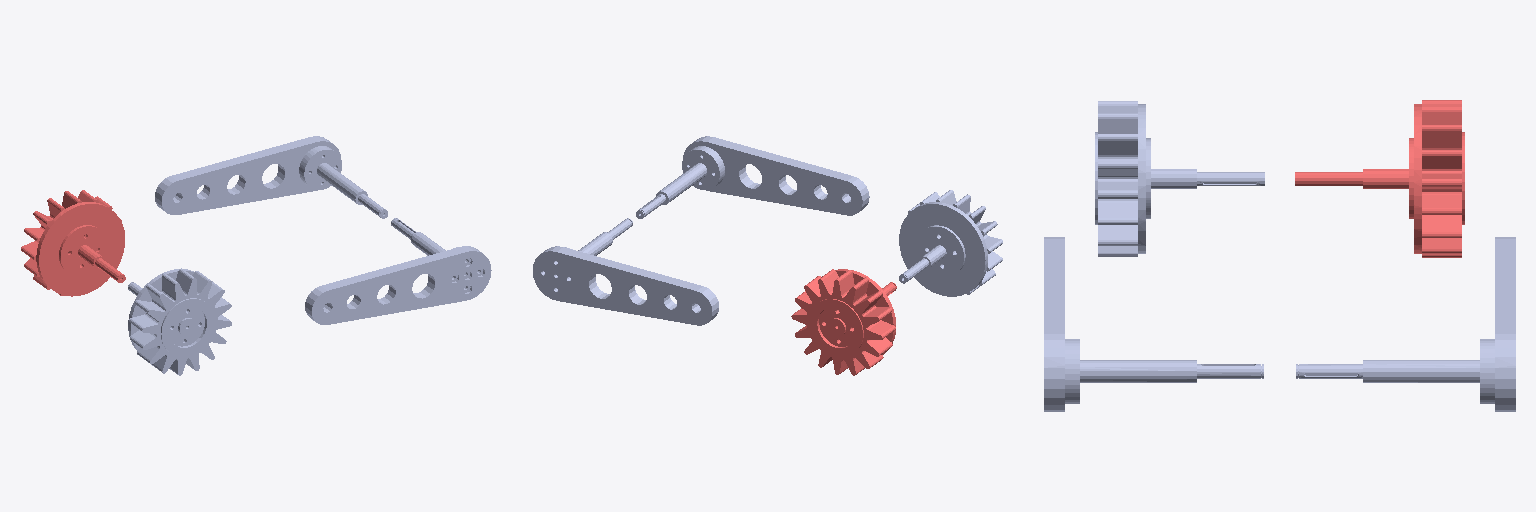
URDF robot description (NIXITO 2026.SLDASM):
<?xml version="1.0" encoding="utf-8"?>
<!-- This URDF was automatically created by SolidWorks to URDF Exporter! Originally created by Stephen Brawner (brawner@gmail.com) 
     Commit Version: 1.6.1-13-g25da24a-dirty  Build Version: 1.6.9639.2506
     For more information, please see http://wiki.ros.org/sw_urdf_exporter -->
<robot
  name="NIXITO 2026.SLDASM">
  <link
    name="base_link">
    <inertial>
      <origin
        xyz="-0.184395945779519 0.431946712720634 0.149004118152158"
        rpy="0 0 0" />
      <mass
        value="24.0361753537654" />
      <inertia
        ixx="0.0692970504509231"
        ixy="-2.1597549524525E-05"
        ixz="-0.00108618565053537"
        iyy="0.274580046029045"
        iyz="5.23944662916574E-05"
        izz="0.277217039635956" />
    </inertial>
    <visual>
      <origin
        xyz="0 0 0"
        rpy="0 0 0" />
      <geometry>
        <mesh
          filename="package://NIXITO 2026.SLDASM/meshes/base_link.STL" />
      </geometry>
      <material
        name="">
        <color
          rgba="0.792156862745098 0.819607843137255 0.933333333333333 1" />
      </material>
    </visual>
    <collision>
      <origin
        xyz="0 0 0"
        rpy="0 0 0" />
      <geometry>
        <mesh
          filename="package://NIXITO 2026.SLDASM/meshes/base_link.STL" />
      </geometry>
    </collision>
  </link>
  <link
    name="flipper_R_link">
    <inertial>
      <origin
        xyz="0.10014 1.019E-05 -0.004882"
        rpy="0 0 0" />
      <mass
        value="0.87584" />
      <inertia
        ixx="0.0009623"
        ixy="-1.7655E-09"
        ixz="-7.6272E-06"
        iyy="0.0085169"
        iyz="8.609E-07"
        izz="0.0085709" />
    </inertial>
    <visual>
      <origin
        xyz="0 0 0"
        rpy="0 0 0" />
      <geometry>
        <mesh
          filename="package://NIXITO 2026.SLDASM/meshes/flipper_R_link.STL" />
      </geometry>
      <material
        name="">
        <color
          rgba="0.79216 0.81961 0.93333 1" />
      </material>
    </visual>
    <collision>
      <origin
        xyz="0 0 0"
        rpy="0 0 0" />
      <geometry>
        <mesh
          filename="package://NIXITO 2026.SLDASM/meshes/flipper_R_link.STL" />
      </geometry>
    </collision>
  </link>
  <joint
    name="flipper_R_joint"
    type="continuous">
    <origin
      xyz="0.11467 0.16639 0.10463"
      rpy="-1.5708 -0.015767 3.1416" />
    <parent
      link="base_link" />
    <child
      link="flipper_R_link" />
    <axis
      xyz="0 0 1" />
    <limit
      effort="100"
      velocity="100" />
    <dynamics
      friction="0.1" />
  </joint>
  <link
    name="flipper_L_link">
    <inertial>
      <origin
        xyz="-0.10014 -0.0015792 0.0047759"
        rpy="0 0 0" />
      <mass
        value="0.87584" />
      <inertia
        ixx="0.0009642"
        ixy="-0.00011909"
        ixz="-8.4202E-06"
        iyy="0.008515"
        iyz="-1.4175E-07"
        izz="0.0085709" />
    </inertial>
    <visual>
      <origin
        xyz="0 0 0"
        rpy="0 0 0" />
      <geometry>
        <mesh
          filename="package://NIXITO 2026.SLDASM/meshes/flipper_L_link.STL" />
      </geometry>
      <material
        name="">
        <color
          rgba="0.79216 0.81961 0.93333 1" />
      </material>
    </visual>
    <collision>
      <origin
        xyz="0 0 0"
        rpy="0 0 0" />
      <geometry>
        <mesh
          filename="package://NIXITO 2026.SLDASM/meshes/flipper_L_link.STL" />
      </geometry>
    </collision>
  </link>
  <joint
    name="flipper_L_joint"
    type="continuous">
    <origin
      xyz="0.11467 0.68797 0.10463"
      rpy="-1.5708 0 0" />
    <parent
      link="base_link" />
    <child
      link="flipper_L_link" />
    <axis
      xyz="0 0 1" />
    <limit
      effort="100"
      velocity="100" />
    <dynamics
      friction="0.1" />
  </joint>
  <link
    name="dir_R_link">
    <inertial>
      <origin
        xyz="-5.8013878025398E-06 9.29245505210119E-07 0.0305867376338103"
        rpy="0 0 0" />
      <mass
        value="1.3754826889591" />
      <inertia
        ixx="0.00316961596584357"
        ixy="-9.14070031604185E-09"
        ixz="-7.32360840596535E-07"
        iyy="0.00316956036222584"
        iyz="1.17306916419896E-07"
        izz="0.00491633292421438" />
    </inertial>
    <visual>
      <origin
        xyz="0 0 0"
        rpy="0 0 0" />
      <geometry>
        <mesh
          filename="package://NIXITO 2026.SLDASM/meshes/dir_R_link.STL" />
      </geometry>
      <material
        name="">
        <color
          rgba="0.792156862745098 0.819607843137255 0.933333333333333 1" />
      </material>
    </visual>
    <collision>
      <origin
        xyz="0 0 0"
        rpy="0 0 0" />
      <geometry>
        <mesh
          filename="package://NIXITO 2026.SLDASM/meshes/dir_R_link.STL" />
      </geometry>
    </collision>
  </link>
  <joint
    name="dir_R_joint"
    type="continuous">
    <origin
      xyz="-0.44833 0.27294 0.10463"
      rpy="1.5708 0.12355 0" />
    <parent
      link="base_link" />
    <child
      link="dir_R_link" />
    <axis
      xyz="0 0 1" />
    <limit
      effort="100"
      velocity="100" />
    <dynamics
      friction="0.1" />
  </joint>
  <link
    name="dir_L_link">
    <inertial>
      <origin
        xyz="4.8611E-06 -3.2999E-06 0.024587"
        rpy="0 0 0" />
      <mass
        value="1.3755" />
      <inertia
        ixx="0.0031696"
        ixy="-2.7199E-08"
        ixz="6.1366E-07"
        iyy="0.0031696"
        iyz="-4.1657E-07"
        izz="0.0049163" />
    </inertial>
    <visual>
      <origin
        xyz="0 0 0"
        rpy="0 0 0" />
      <geometry>
        <mesh
          filename="package://NIXITO 2026.SLDASM/meshes/dir_L_link.STL" />
      </geometry>
      <material
        name="">
        <color
          rgba="1 0.50196 0.50196 1" />
      </material>
    </visual>
    <collision>
      <origin
        xyz="0 0 0"
        rpy="0 0 0" />
      <geometry>
        <mesh
          filename="package://NIXITO 2026.SLDASM/meshes/dir_L_link.STL" />
      </geometry>
    </collision>
  </link>
  <joint
    name="dir_L_joint"
    type="continuous">
    <origin
      xyz="-0.44833 0.59694 0.10463"
      rpy="-1.5708 0.042578 0" />
    <parent
      link="base_link" />
    <child
      link="dir_L_link" />
    <axis
      xyz="0 0 1" />
    <limit
      effort="100"
      velocity="100" />
    <dynamics
      friction="0.1" />
  </joint>
</robot>

--- What the picture shows (computed from the rendered views, not written in the file) ---
3 views of the same robot in one strip: view 1: azimuth 30°, elevation 25°; view 2: azimuth 150°, elevation 25°; view 3: azimuth 270°, elevation 25° (orthographic).
Model NIXITO 2026.SLDASM with 5 links and 4 joints (4 continuous), rooted at base_link, posed every joint at zero.
Links seen in each view (by area): view 1: flipper_L_link, flipper_R_link, dir_L_link, dir_R_link; view 2: flipper_R_link, flipper_L_link, dir_L_link, dir_R_link; view 3: dir_L_link, dir_R_link, flipper_L_link, flipper_R_link.
Boxes of the visible links, x1,y1,x2,y2 form: flipper_L_link: (155,136,387,218); flipper_R_link: (305,218,491,324); dir_L_link: (21,190,125,296); dir_R_link: (128,268,231,375); flipper_R_link: (636,136,869,218); flipper_L_link: (533,218,718,325); dir_L_link: (791,269,896,375); dir_R_link: (899,190,1002,296); dir_L_link: (1295,100,1464,257); dir_R_link: (1095,101,1264,256); flipper_L_link: (1296,237,1515,411); flipper_R_link: (1044,237,1263,411).
Size in the robot's own frame: 0.7106 by 0.5819 by 0.1952 metres.
Meshes: 5 distinct files referenced, 4 mesh visuals loaded (4 binary STL); not drawn: 1 (reference not matched to a file when rendering).
